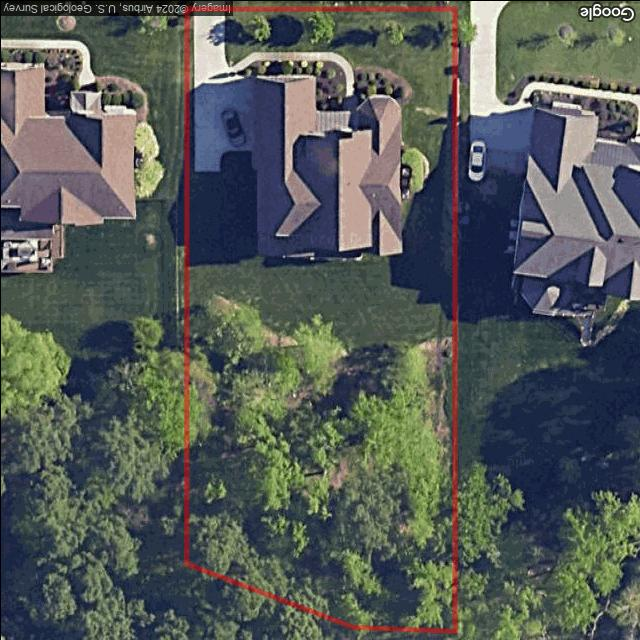Driveway: (192, 9, 250, 171)
Extra-Driveway: (192, 0, 224, 9)
Extra-Lawn: (223, 0, 454, 9), (184, 0, 193, 5)
House: (246, 75, 404, 257)
Lawn: (186, 8, 455, 631)
Other: (185, 291, 455, 632), (236, 60, 344, 109), (352, 66, 412, 108), (400, 147, 429, 200)
Sidewalk: (227, 51, 354, 108)
